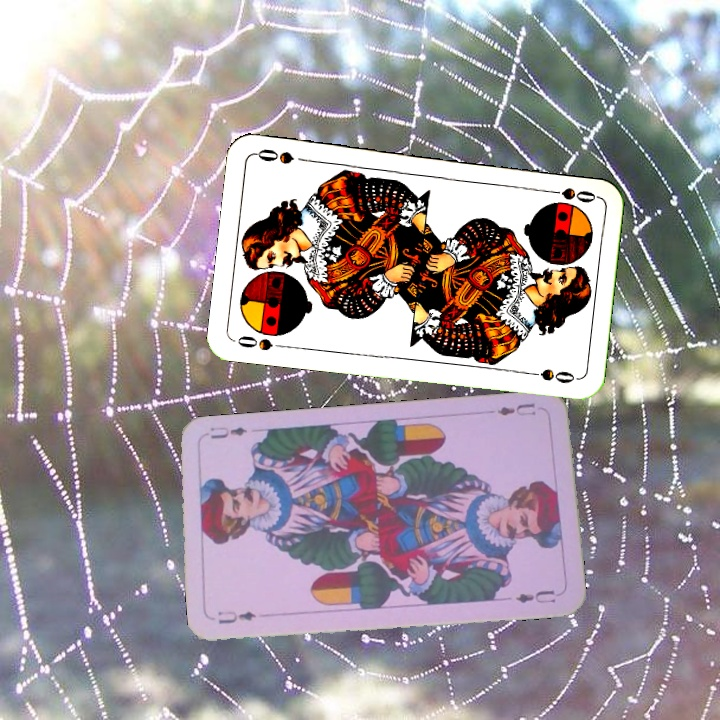EU: (213, 607, 259, 627), (493, 399, 538, 419)
SO: (231, 331, 290, 354), (539, 184, 599, 205)
